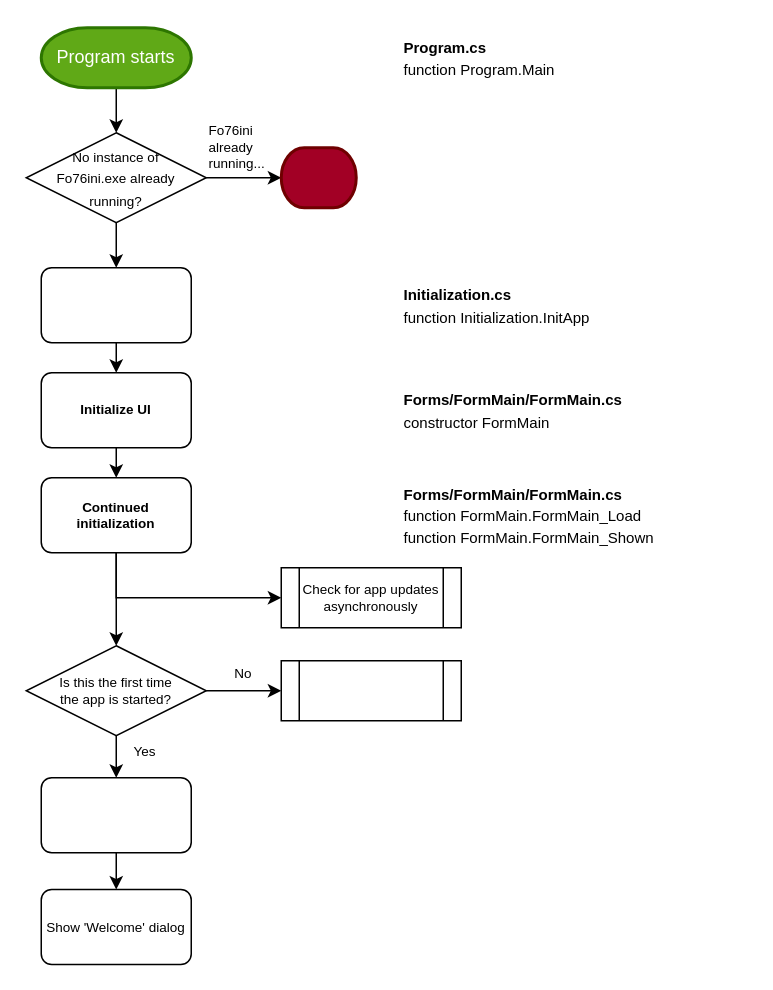
Some shapes in this 773 by 990 pixel diagram are drawn without their labels. The shapes that lost their labels are listed below. From the top down, each one's box as (x1, y1, x2, y2) in pixels, then its label:
(279, 146, 357, 208): Exit
(40, 266, 191, 343): Initialize app: Create folders, read config files, etc.
(280, 659, 461, 721): Check for translation updates asynchronously
(40, 776, 191, 853): Download translations from GitHub
